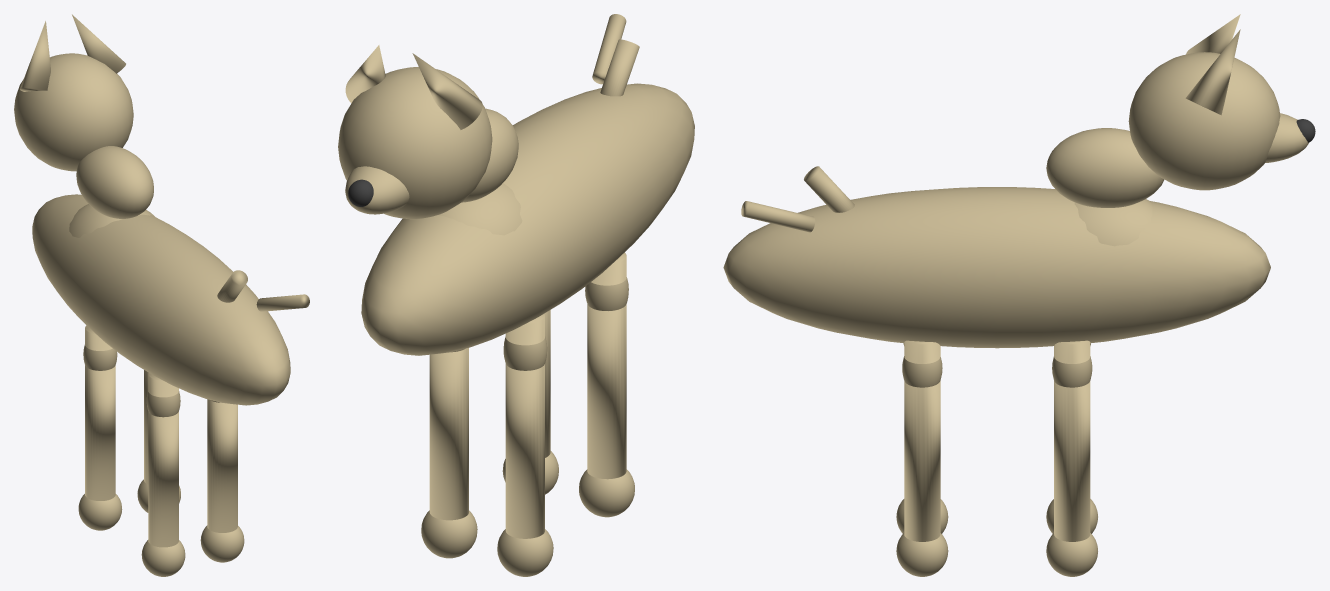
Rendered from canine-standing.glb.
3 views of the same model, side by side, from view 1: azimuth 30°, elevation 25°; view 2: azimuth 150°, elevation 25°; view 3: azimuth 270°, elevation 25° (orthographic). The views are drawn at different scales.
Parts seen in each view (by area): view 1: Body; view 2: Body; view 3: Body.
Boxes of the visible parts, box(x1,y1,x2,y2) form: Body: box(14, 14, 309, 576); Body: box(338, 14, 694, 576); Body: box(723, 14, 1315, 576).
Size of the model in its own units: 0.28 by 1.03 by 1.03.
